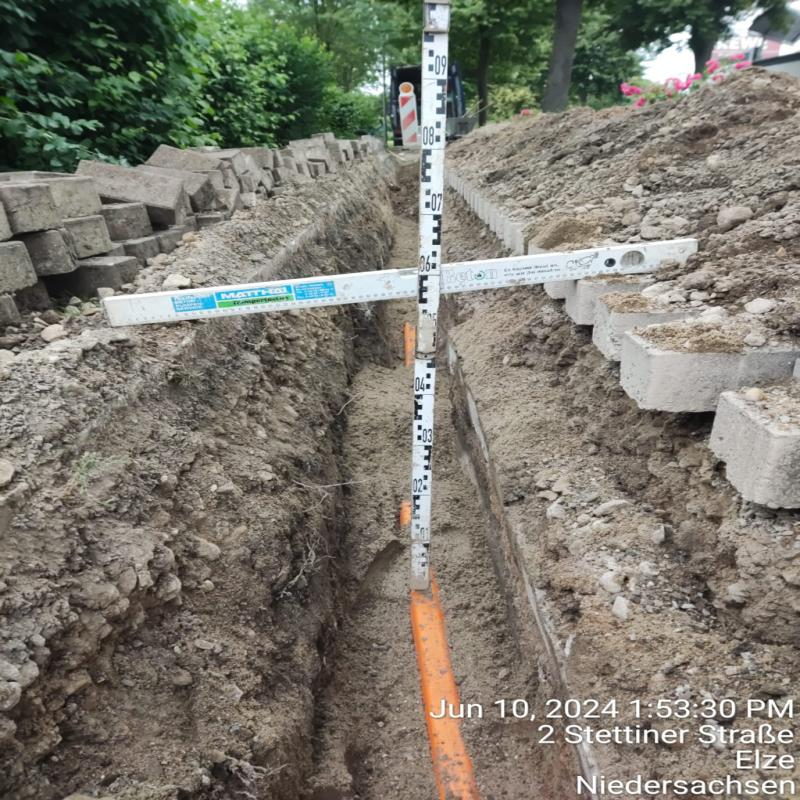Orang-Speednetrohrchen: (401, 500, 478, 799)
